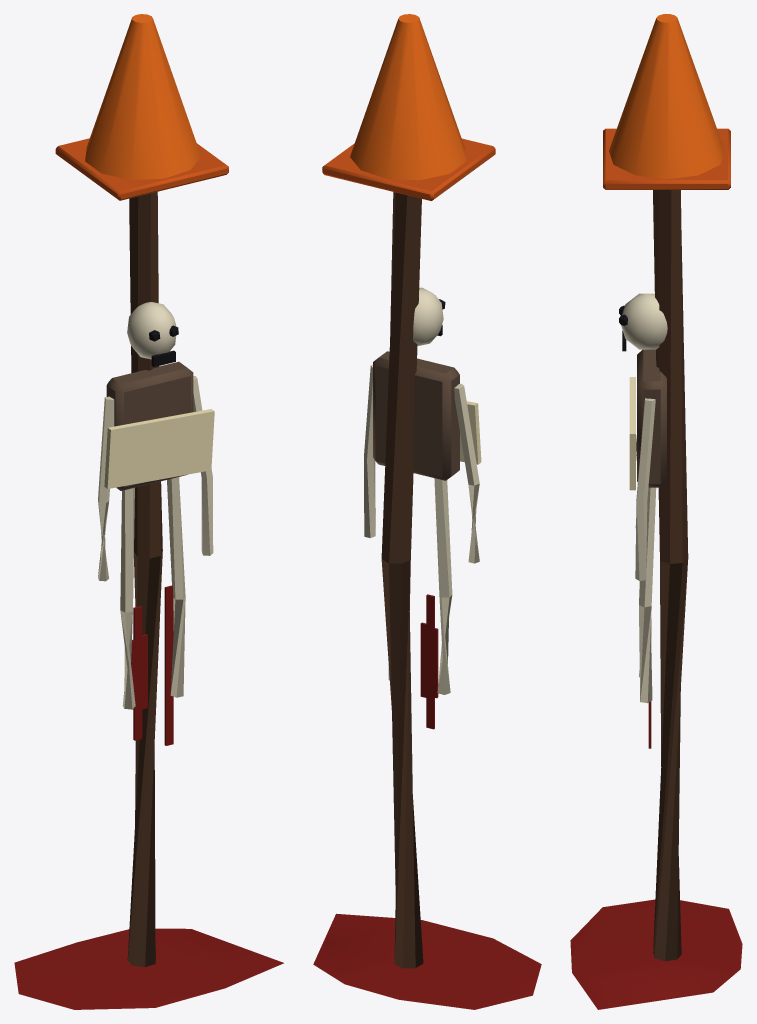
Rendered from toll_stake.glb.
3 views of the same model, side by side, from view 1: azimuth 30°, elevation 25°; view 2: azimuth 150°, elevation 25°; view 3: azimuth 270°, elevation 25° (orthographic).
Parts seen in each view (by area): view 1: toll_stake; view 2: toll_stake; view 3: toll_stake.
Boxes of the visible parts, x1,y1,x2,y2 form: toll_stake: (14, 14, 283, 1009); toll_stake: (313, 14, 541, 1009); toll_stake: (570, 14, 742, 1009).
Size of the model in its own units: 1.24 by 4.87 by 0.8073.
